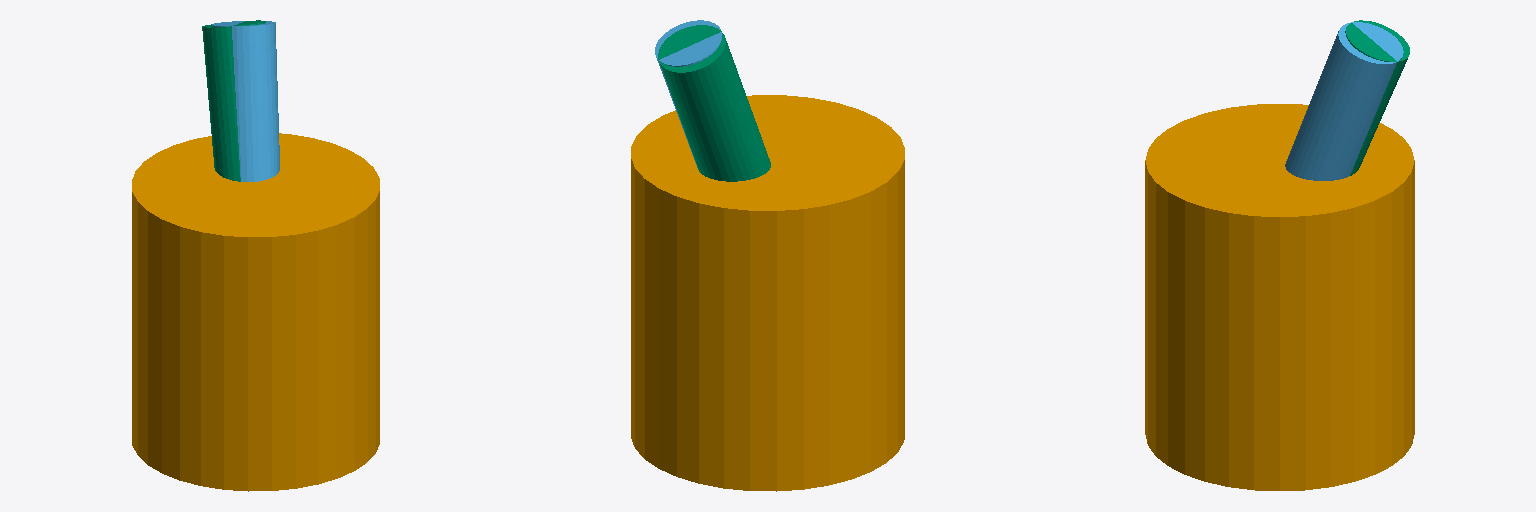
The robot description file, URDF, robot "pepe":
<?xml version="1.0"?><robot name="pepe">
	<link name="0">
		<visual>
			<geometry>
				<cylinder length="2.052335271366942" radius="0.9127046226389154"/>
			</geometry>
		</visual>
		<collision>
			<geometry>
				<cylinder length="2.052335271366942" radius="0.9127046226389154"/>
			</geometry>
		</collision>
		<inertial>
			<mass value="5.371043651051132"/>
			<inertia ixx="0.03" iyy="0.03" izz="0.03" ixy="0" ixz="0" iyx="0"/>
		</inertial>
	</link>
	<link name="11">
		<visual>
			<geometry>
				<cylinder length="2.5823645629742993" radius="0.23398266248795874"/>
			</geometry>
		</visual>
		<collision>
			<geometry>
				<cylinder length="2.5823645629742993" radius="0.23398266248795874"/>
			</geometry>
		</collision>
		<inertial>
			<mass value="0.4441552327825664"/>
			<inertia ixx="0.03" iyy="0.03" izz="0.03" ixy="0" ixz="0" iyx="0"/>
		</inertial>
	</link>
	<link name="12">
		<visual>
			<geometry>
				<cylinder length="2.5823645629742993" radius="0.23398266248795874"/>
			</geometry>
		</visual>
		<collision>
			<geometry>
				<cylinder length="2.5823645629742993" radius="0.23398266248795874"/>
			</geometry>
		</collision>
		<inertial>
			<mass value="0.4441552327825664"/>
			<inertia ixx="0.03" iyy="0.03" izz="0.03" ixy="0" ixz="0" iyx="0"/>
		</inertial>
	</link>
	<joint name="11_to_0" type="revolute">
		<parent link="0"/>
		<child link="11"/>
		<axis xyz="1 0 0"/>
		<limit effort="1" upper="-3.1415" lower="3.1415" velocity="1"/>
		<origin rpy="6.169183716290176 2.8041894148144473 3.944862445753058" xyz="0.06346158879997266 0.20921846391114063 0.8103165663829949"/>
	</joint>
	<joint name="12_to_0" type="revolute">
		<parent link="0"/>
		<child link="12"/>
		<axis xyz="1 0 0"/>
		<limit effort="1" upper="-3.1415" lower="3.1415" velocity="1"/>
		<origin rpy="9.253775574435263 2.8041894148144473 3.944862445753058" xyz="0.06346158879997266 0.20921846391114063 0.8103165663829949"/>
	</joint>
</robot>

--- Render facts (derived) ---
The picture shows the robot from 3 angles, left to right: view 1: azimuth 30°, elevation 25°; view 2: azimuth 150°, elevation 25°; view 3: azimuth 270°, elevation 25°; orthographic projection.
Model pepe with 3 links and 2 joints (2 revolute), rooted at 0, posed every joint at zero.
Links seen in each view (by area): view 1: 0, 11, 12; view 2: 0, 12, 11; view 3: 0, 11, 12.
Link boxes in pixels (box(x1,y1,x2,y2)): 0: box(132, 133, 379, 491); 11: box(212, 21, 279, 181); 12: box(202, 20, 265, 181); 0: box(631, 95, 904, 491); 12: box(658, 25, 770, 181); 11: box(655, 20, 721, 167); 0: box(1145, 104, 1414, 490); 11: box(1285, 22, 1403, 180); 12: box(1345, 20, 1409, 175).
Size in the robot's own frame: 1.83 by 1.83 by 3.13 metres.
Geometry: primitives only (box / cylinder / sphere), no mesh files.
